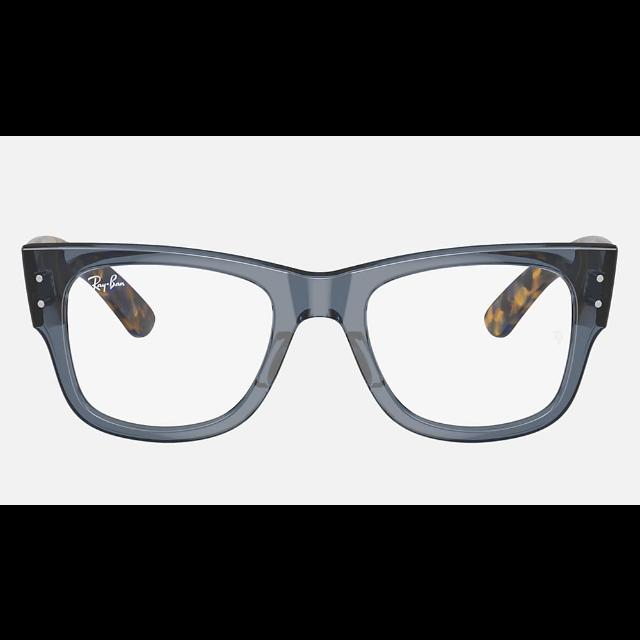glasses: (18, 228, 620, 444)
